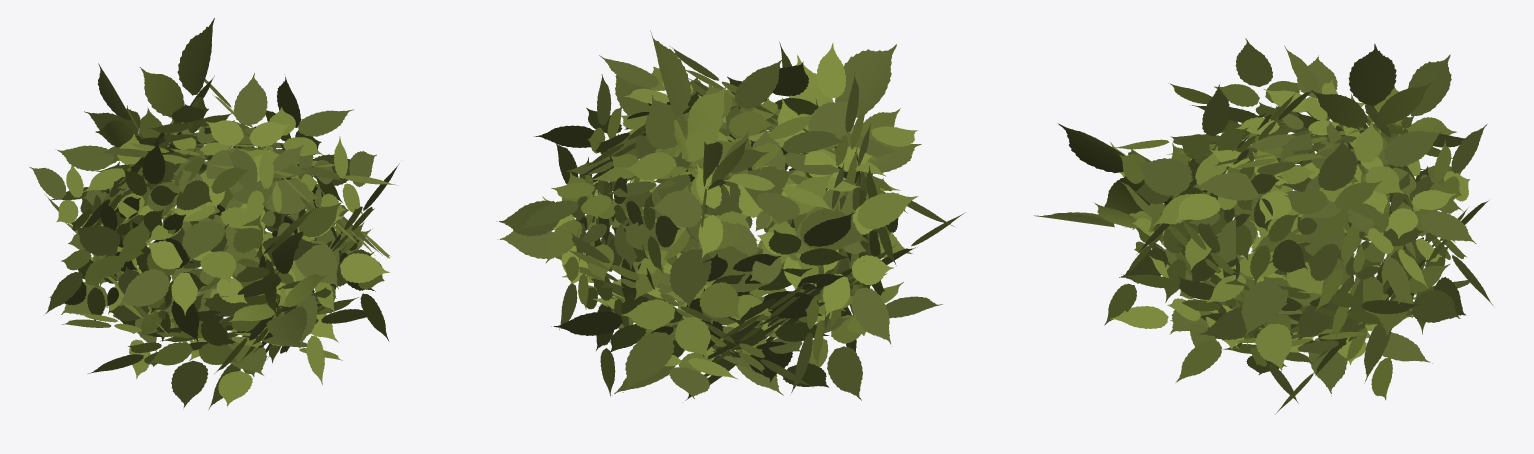
File: Blackberry_Bush_1a.fbx
3 renders of one model, left to right at view 1: azimuth 30°, elevation 25°; view 2: azimuth 150°, elevation 25°; view 3: azimuth 270°, elevation 25°, orthographic. The views are drawn at different scales.
Visible parts, largest first — view 1: Blackberry_Bush_1a; view 2: Blackberry_Bush_1a; view 3: Blackberry_Bush_1a.
Boxes of the visible parts, x1=… form: Blackberry_Bush_1a: x1=29, y1=18, x2=399, y2=409; Blackberry_Bush_1a: x1=496, y1=30, x2=965, y2=400; Blackberry_Bush_1a: x1=1034, y1=38, x2=1493, y2=414.
Bounding box in the file's own units: 99.72 × 86.71 × 99.49.
1 material, 1 textured.
